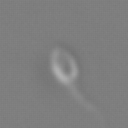normal: (66, 81, 111, 128)
